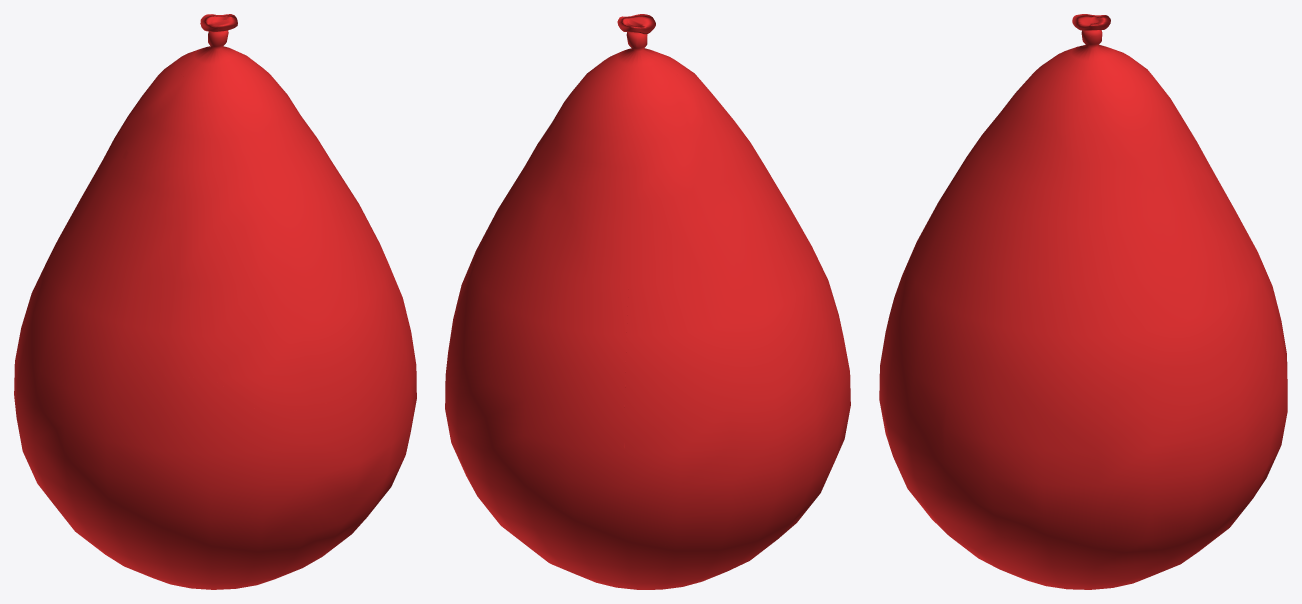
Rendered from Baloon.fbx.
3 views of the same model, side by side, from view 1: azimuth 30°, elevation 25°; view 2: azimuth 150°, elevation 25°; view 3: azimuth 270°, elevation 25° (orthographic).
Visible parts, largest first — view 1: shard2, shard3, shard1, mdl_balloon; view 2: shard3, shard2, shard4, shard1, mdl_balloon; view 3: shard3, shard4, shard2, shard1.
Boxes of the visible parts, x1,y1,x2,y2 form: shard2: [14, 161, 411, 589]; shard3: [97, 43, 416, 450]; shard1: [181, 14, 237, 77]; mdl_balloon: [17, 15, 249, 373]; shard3: [445, 45, 827, 514]; shard2: [527, 178, 850, 578]; shard4: [478, 497, 726, 589]; shard1: [617, 17, 677, 77]; mdl_balloon: [452, 15, 769, 430]; shard3: [885, 42, 1287, 545]; shard4: [976, 447, 1280, 589]; shard2: [879, 332, 999, 568]; shard1: [1072, 14, 1114, 56].
Bounding box in the file's own units: 191 × 287 × 190.
